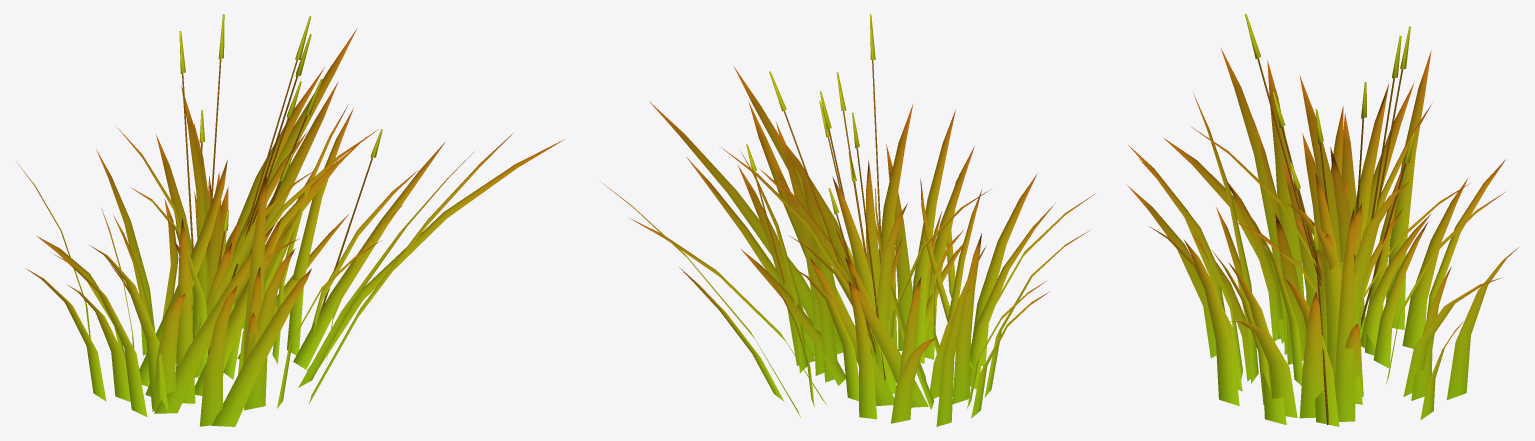
File: lyme.glb
The picture shows the model from 3 angles, left to right: view 1: azimuth 30°, elevation 25°; view 2: azimuth 150°, elevation 25°; view 3: azimuth 270°, elevation 25°; orthographic projection. The views are drawn at different scales.
Parts seen in each view (by area): view 1: v1, v0, v3, v2; view 2: v0, v3, v1, v2; view 3: v1, v0, v3, v2.
Boxes of the visible parts, <box> form: v1: <box>139,28,564,426</box>; v0: <box>25,106,402,426</box>; v3: <box>116,14,417,378</box>; v2: <box>16,108,381,412</box>; v0: <box>760,110,1089,423</box>; v3: <box>719,14,990,394</box>; v1: <box>600,66,973,417</box>; v2: <box>740,144,1094,426</box>; v1: <box>1126,147,1518,420</box>; v0: <box>1128,60,1468,424</box>; v3: <box>1190,14,1470,426</box>; v2: <box>1149,47,1505,421</box>.
Bounding box in the file's own units: 18.92 × 13 × 11.8.
